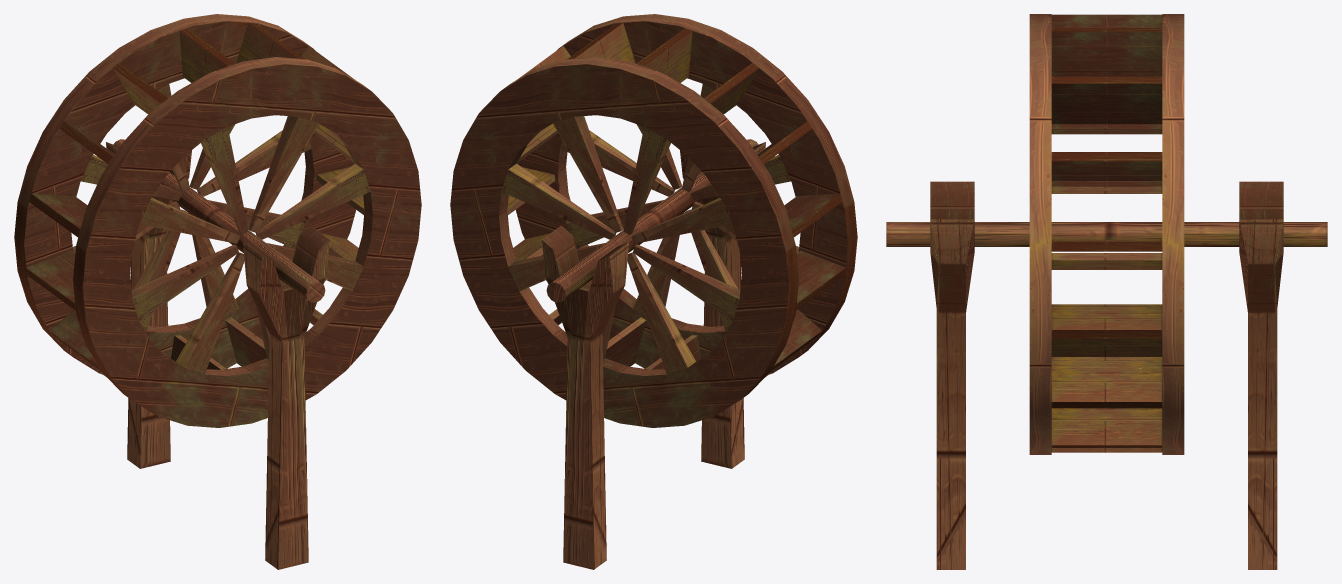
File: WaterMill.fbx
3 renders of one model, left to right at view 1: azimuth 30°, elevation 25°; view 2: azimuth 150°, elevation 25°; view 3: azimuth 270°, elevation 25°, orthographic. The views are drawn at different scales.
Parts seen in each view (by area): view 1: The WaterMill, Holder; view 2: The WaterMill, Holder; view 3: The WaterMill, Holder.
Boxes of the visible parts, x1,y1,x2,y2 form: The WaterMill: (14,14,421,427); Holder: (106,142,329,569); The WaterMill: (450,14,857,427); Holder: (542,142,765,569); The WaterMill: (886,14,1327,454); Holder: (930,181,1283,569).
Bounding box in the file's own units: 200 × 264 × 200.
